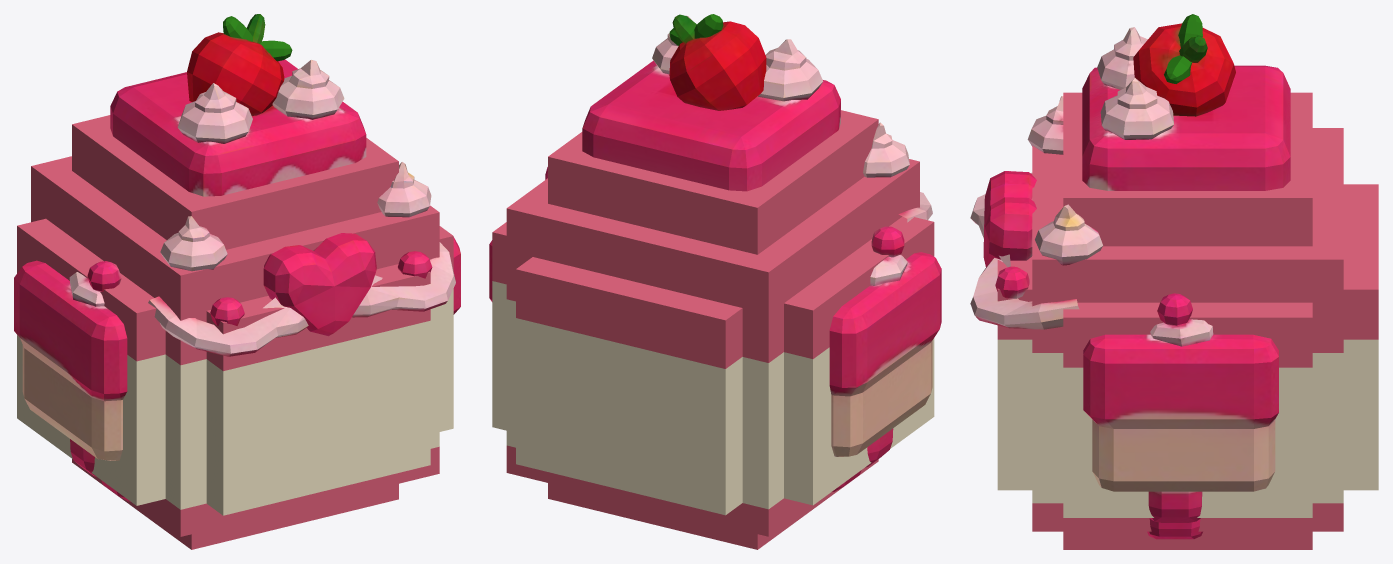
The model's file is Trung banh ngot.fbx.
3 views of the same model, side by side, from view 1: azimuth 30°, elevation 25°; view 2: azimuth 150°, elevation 25°; view 3: azimuth 270°, elevation 25° (orthographic). The views are drawn at different scales.
Parts seen in each view (by area): view 1: Trung_Banh_Ngot; view 2: Trung_Banh_Ngot; view 3: Trung_Banh_Ngot.
Boxes of the visible parts, x1,y1,x2,y2 form: Trung_Banh_Ngot: (14, 14, 460, 549); Trung_Banh_Ngot: (489, 14, 941, 549); Trung_Banh_Ngot: (970, 14, 1378, 549).
Bounding box in the file's own units: 3.35 × 4.02 × 3.09.
